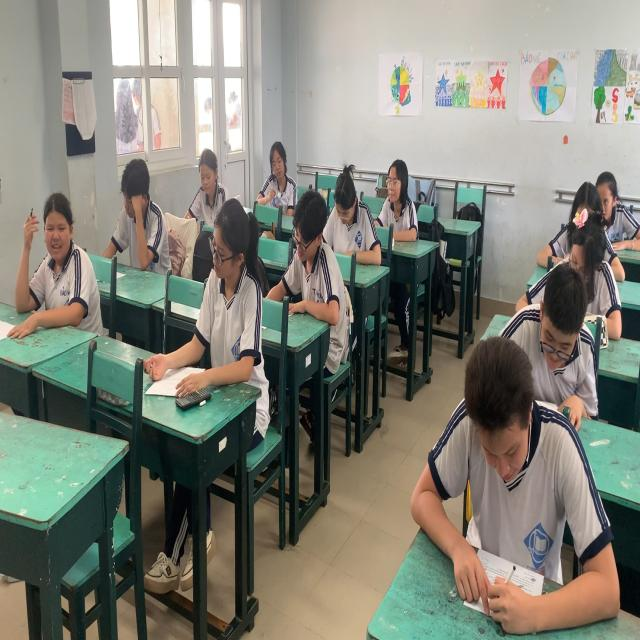not_cheating: (431, 332, 570, 622), (515, 257, 592, 436), (205, 188, 268, 383), (18, 188, 102, 333), (560, 201, 624, 350), (111, 156, 172, 278), (286, 181, 338, 320), (327, 162, 385, 260), (369, 155, 420, 238), (594, 169, 640, 258), (254, 130, 302, 214), (187, 149, 234, 218)
